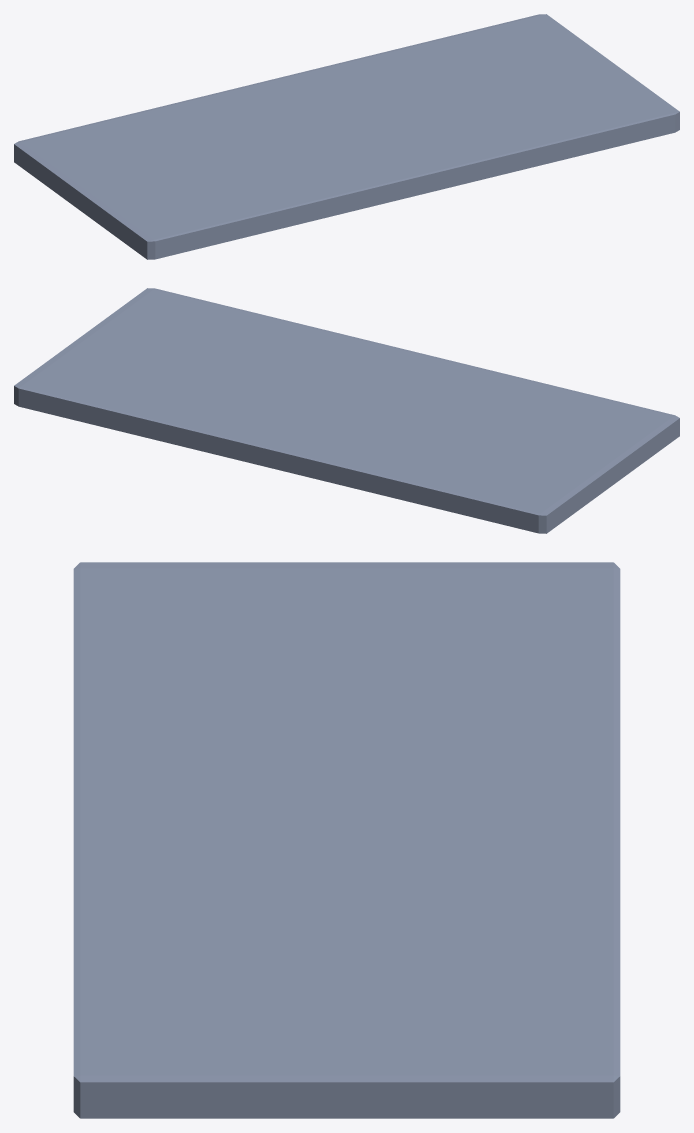
The model's file is RackShelf.glb.
3 renders of one model, top to bottom at view 1: azimuth 30°, elevation 25°; view 2: azimuth 150°, elevation 25°; view 3: azimuth 270°, elevation 25°, orthographic. The views are drawn at different scales.
Visible parts, largest first — view 1: Deck; view 2: Deck; view 3: Deck.
Part boxes in pixels (left/top/right/bottom): Deck: left=14, top=14, right=679, bottom=259; Deck: left=14, top=288, right=679, bottom=533; Deck: left=73, top=562, right=620, bottom=1118.
Bounding box in the file's own units: 1.8 × 0.06 × 0.8.
